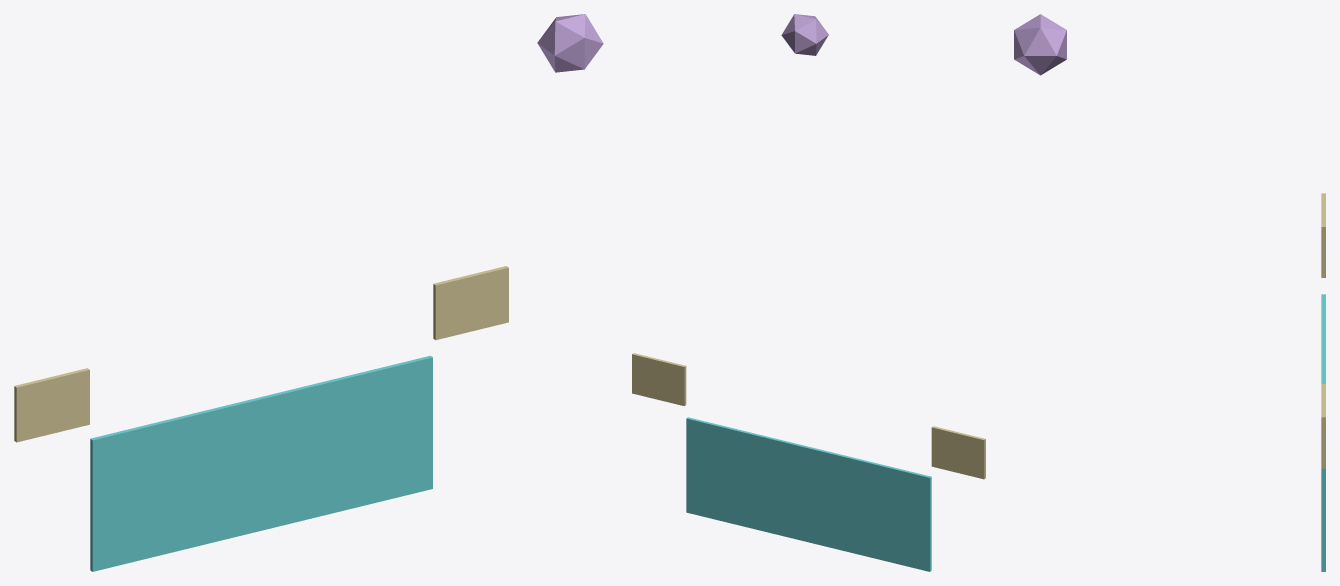
Rendered from Building5_Glow.glb.
3 renders of one model, left to right at view 1: azimuth 30°, elevation 25°; view 2: azimuth 150°, elevation 25°; view 3: azimuth 270°, elevation 25°, orthographic. The views are drawn at different scales.
Visible parts, largest first — view 1: Building5_Glow; view 2: Building5_Glow; view 3: Building5_Glow.
Boxes of the visible parts, x1,y1,x2,y2 form: Building5_Glow: [14, 14, 603, 571]; Building5_Glow: [632, 14, 985, 571]; Building5_Glow: [1014, 14, 1325, 571].
Size of the model in its own units: 9.4 by 10.67 by 5.53.
